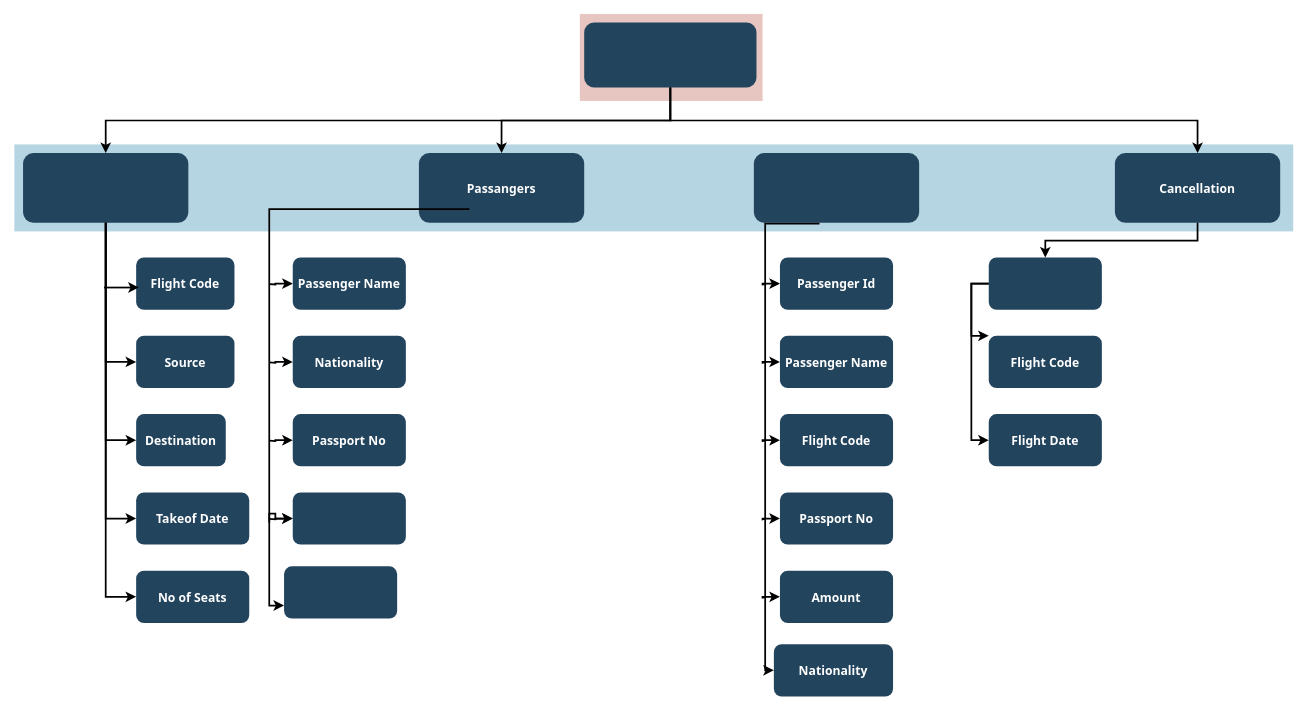
This 1308x711 diagram has some shape labels left out. Each missing label, with the box of its shape:
Client / Server: (284, 566, 397, 618)
email address: (292, 492, 405, 544)
Flight Management Admin: (584, 22, 756, 87)
Flights: (23, 153, 188, 222)
Ticket id: (988, 257, 1101, 309)
Tickets: (753, 153, 919, 222)
